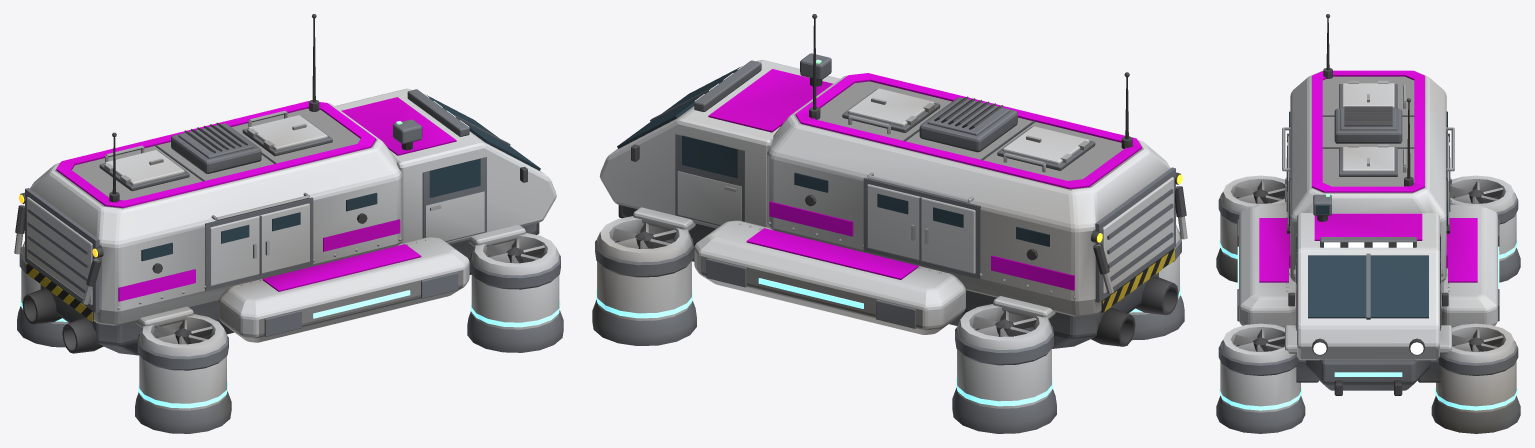
Rendered from hover_carrier.glb.
3 views of the same model, side by side, from view 1: azimuth 30°, elevation 25°; view 2: azimuth 150°, elevation 25°; view 3: azimuth 270°, elevation 25° (orthographic). The views are drawn at different scales.
Visible parts, largest first — view 1: Body; view 2: Body; view 3: Body.
Boxes of the visible parts, x1,y1,x2,y2 form: Body: (14, 14, 563, 433); Body: (592, 14, 1187, 433); Body: (1216, 14, 1520, 433).
Bounding box in the file's own units: 3.72 × 2.16 × 2.26.
Materials: 1 (1 with a texture image).
